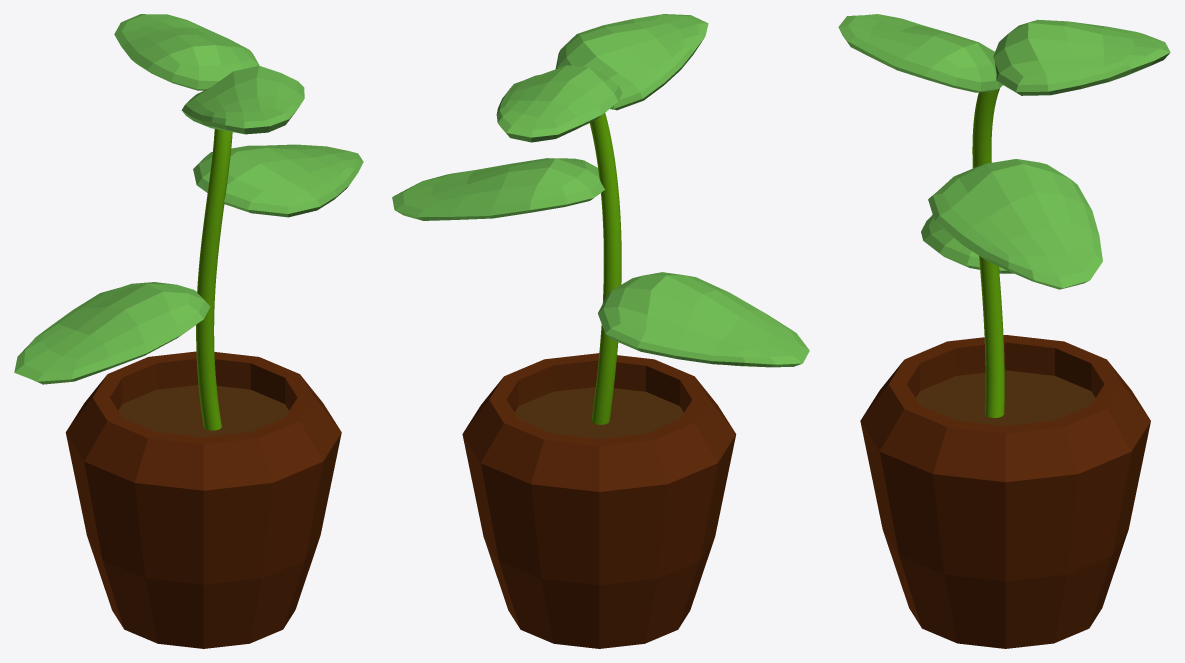
File: Plant.fbx
3 views of the same model, side by side, from view 1: azimuth 30°, elevation 25°; view 2: azimuth 150°, elevation 25°; view 3: azimuth 270°, elevation 25° (orthographic). The views are drawn at different scales.
Visible parts, largest first — view 1: Plant; view 2: Plant; view 3: Plant.
Boxes of the visible parts, x1,y1,x2,y2 form: Plant: (14, 14, 363, 648); Plant: (392, 14, 809, 648); Plant: (838, 14, 1170, 648).
Size of the model in its own units: 0.6666 by 0.9335 by 0.4805.
